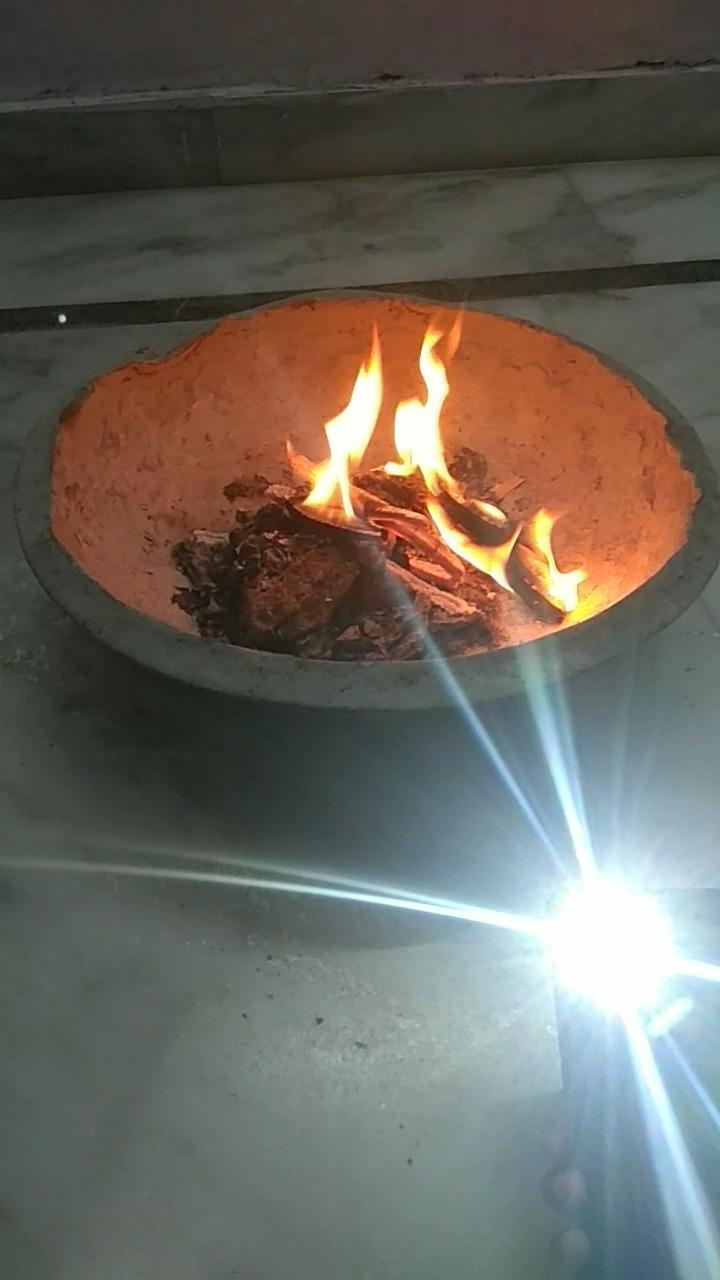fire: (421, 488, 591, 610), (298, 320, 388, 550), (386, 308, 458, 493)
